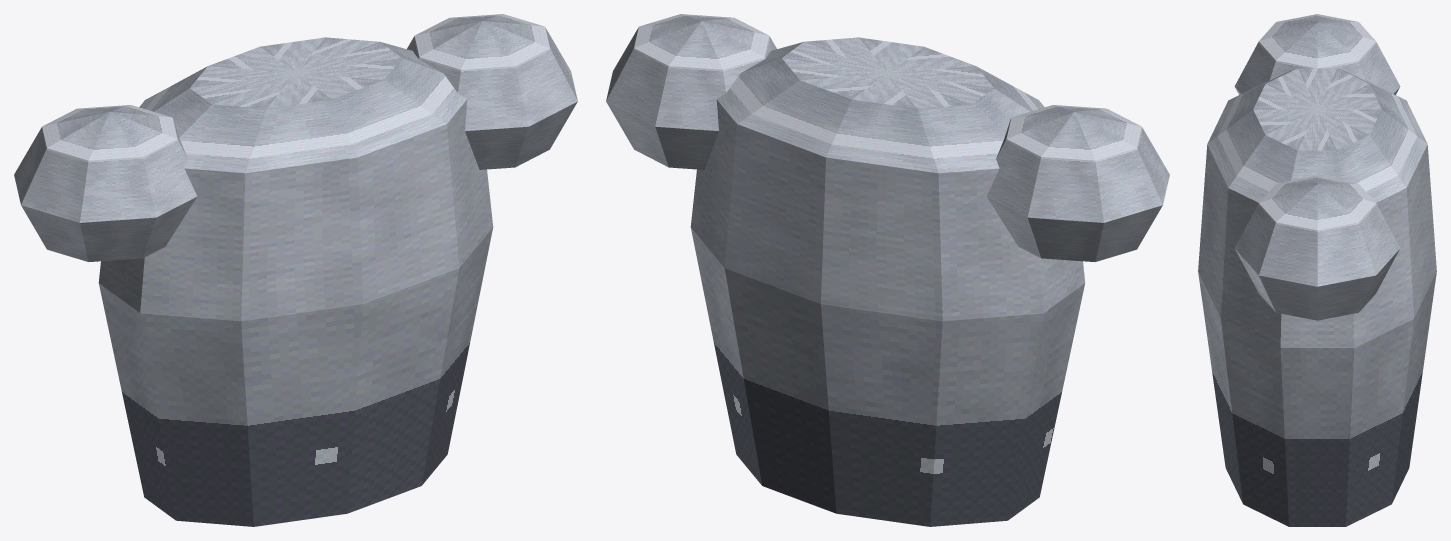
File: peitoral_de_ferro.glb
The picture shows the model from 3 angles, left to right: view 1: azimuth 30°, elevation 25°; view 2: azimuth 150°, elevation 25°; view 3: azimuth 270°, elevation 25°; orthographic projection. The views are drawn at different scales.
Visible parts, largest first — view 1: peitoral_de_ferro; view 2: peitoral_de_ferro; view 3: peitoral_de_ferro.
Boxes of the visible parts, box(x1,y1,x2,y2) form: peitoral_de_ferro: box(14, 14, 577, 526); peitoral_de_ferro: box(606, 14, 1169, 526); peitoral_de_ferro: box(1198, 14, 1436, 526).
Size of the model in its own units: 0.886 by 0.6305 by 0.3744.
Materials: 1 (1 with a texture image).
